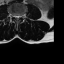CCS_stenosis: (16, 14, 18, 22)
LFS_normal: (20, 13, 22, 19)
LLS_normal: (18, 13, 20, 21)
RFS_stenosis: (12, 13, 14, 19)
RLS_normal: (14, 13, 16, 20)
